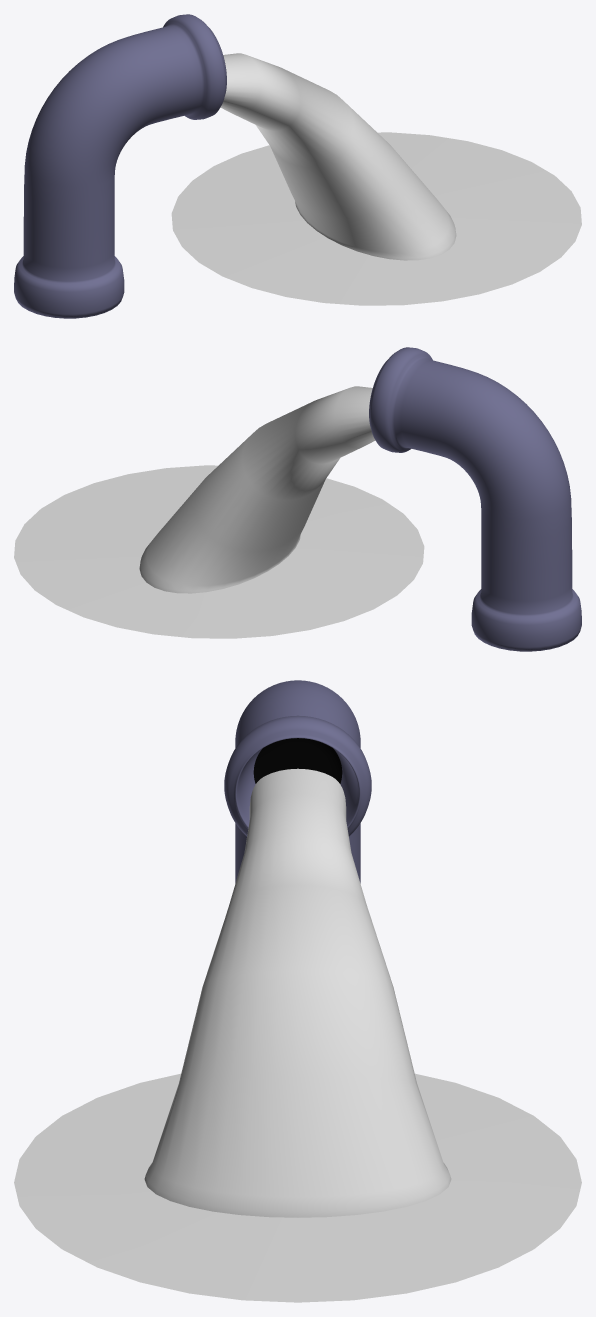
The model's file is Leaky_Pipe02 2.fbx.
The picture shows the model from 3 angles, top to bottom: view 1: azimuth 30°, elevation 25°; view 2: azimuth 150°, elevation 25°; view 3: azimuth 270°, elevation 25°; orthographic projection. The views are drawn at different scales.
Parts seen in each view (by area): view 1: Cylinder, Pipe, Flow; view 2: Cylinder, Pipe, Flow; view 3: Flow, Cylinder, Pipe.
Boxes of the visible parts, x1,y1,x2,y2 form: Cylinder: (171, 132, 581, 305); Pipe: (14, 14, 226, 318); Flow: (220, 53, 456, 260); Cylinder: (14, 465, 424, 638); Pipe: (369, 347, 581, 651); Flow: (139, 386, 375, 593); Flow: (144, 768, 451, 1217); Cylinder: (14, 1073, 581, 1302); Pipe: (224, 680, 371, 883).
Bounding box in the file's own units: 1851 × 825 × 1236.
